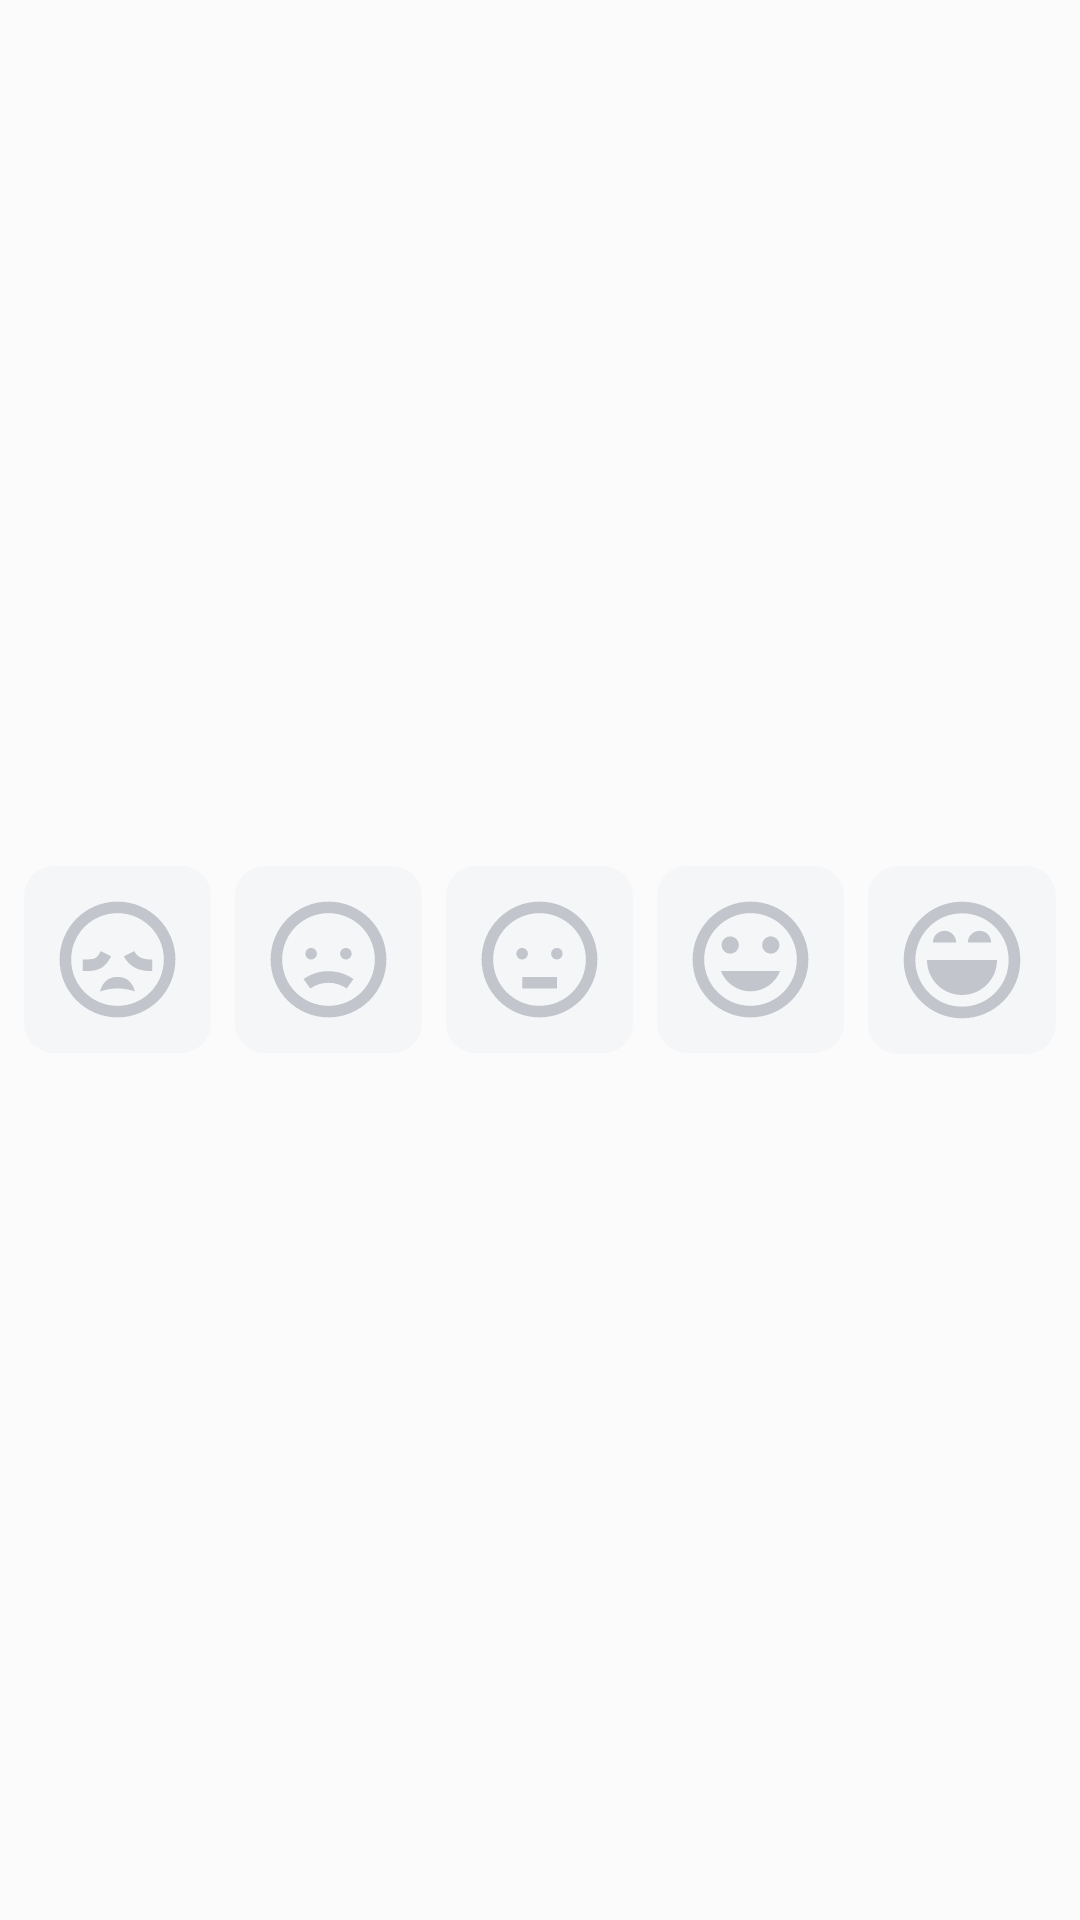

Icons on this 1080px x 1920px Android screen, each with the point to tap as (x=x, y=y):
Happy: (x=750, y=959)
Neutral: (x=539, y=959)
Sad: (x=328, y=959)
Very happy: (x=962, y=960)
Very sad: (x=117, y=959)
